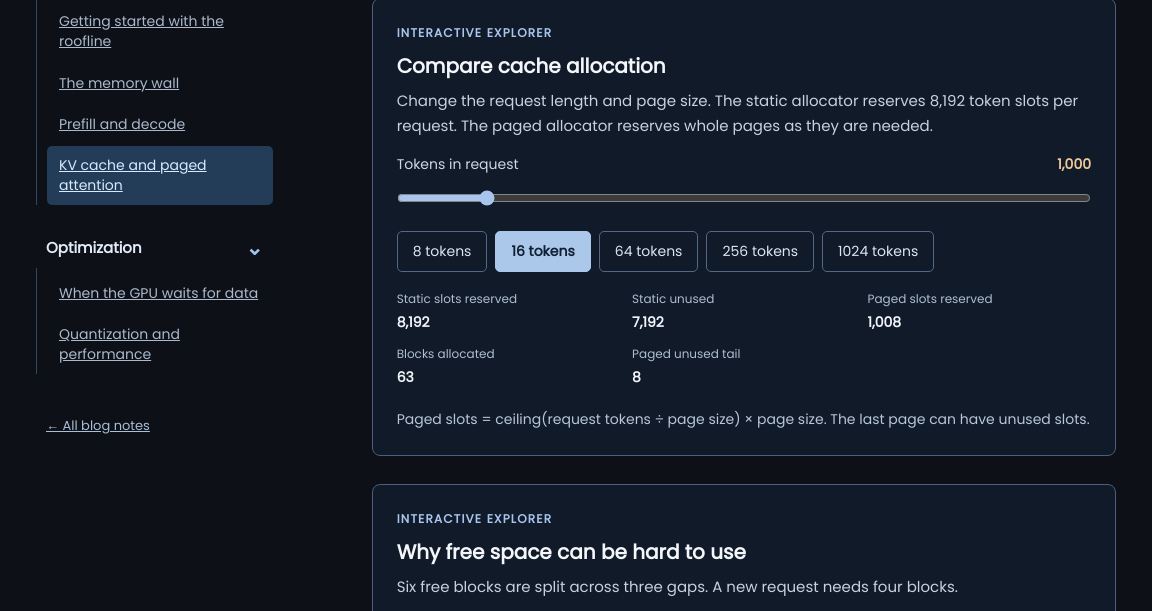
retains interactive KV allocation
The image size is (1152, 611).
(page scrolled)
Click the button "256 tokens": [760, 252] box x1=706 y1=231 x2=814 y2=272
(page scrolled)
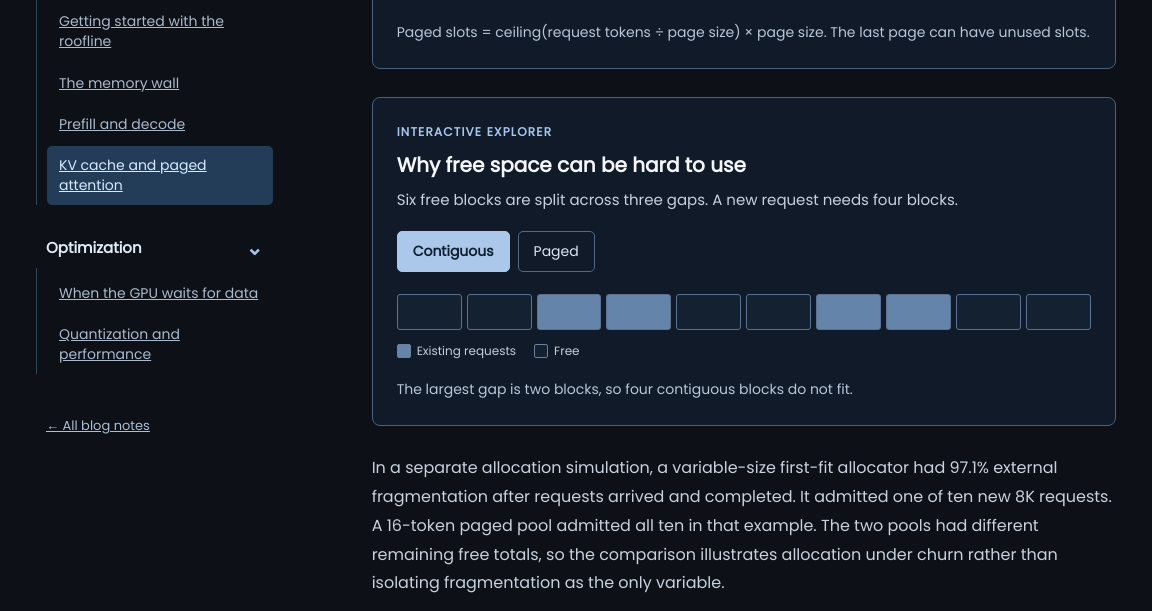
Click the button "Paged": [556, 252] box x1=518 y1=231 x2=595 y2=272
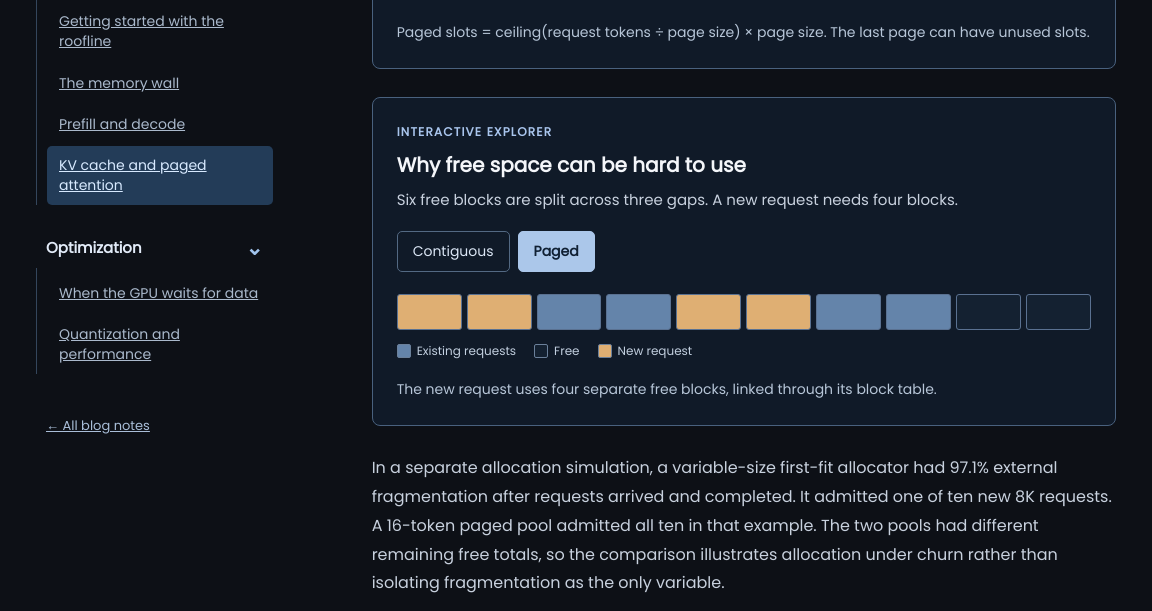
Check: the text "new request uses four separate free blocks" is shown, box x1=397 y1=379 x2=937 y2=399
